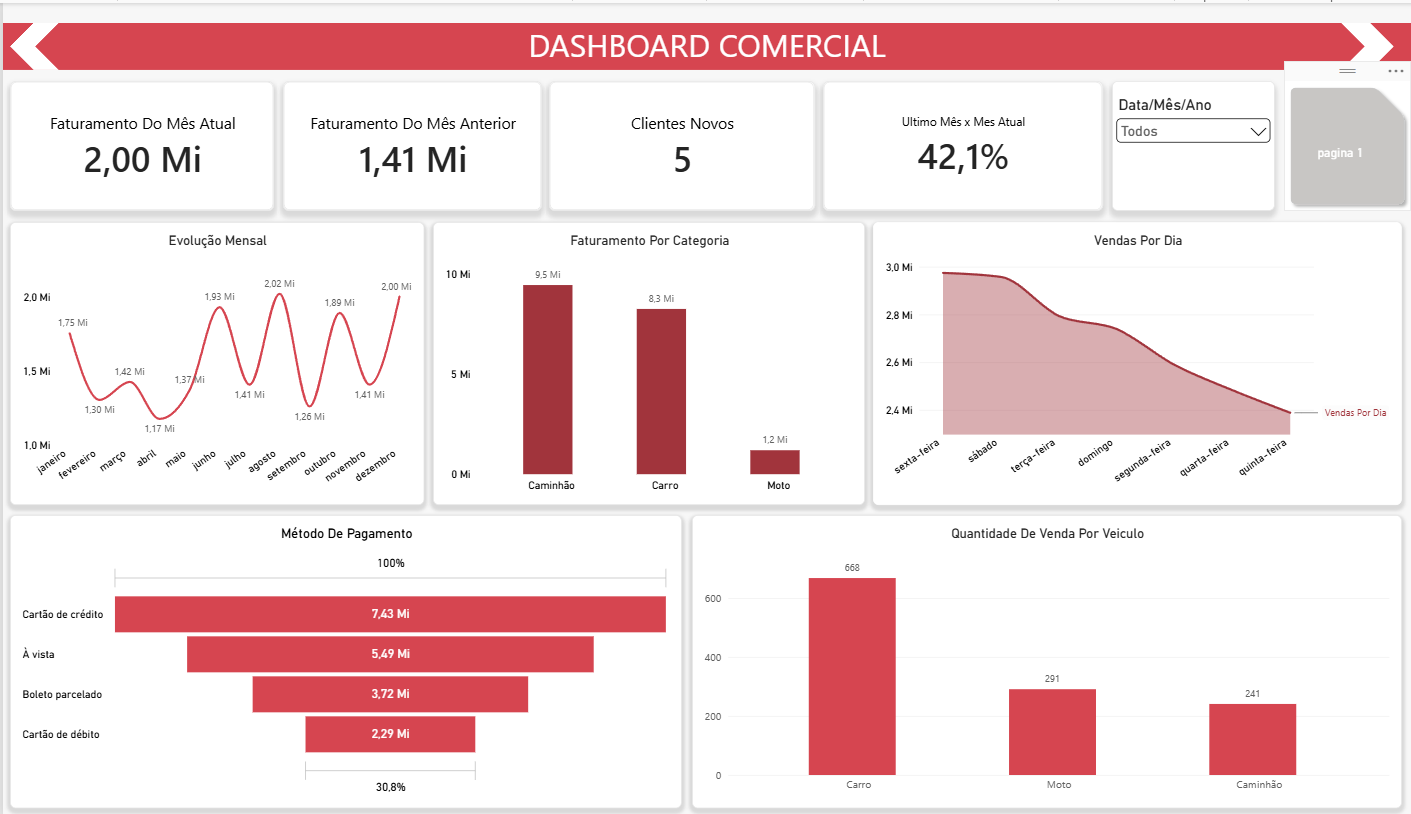

What the dashboard file says about the page in this screenshot:
{"tool":"powerbi","page":{"name":"Página 2","canvas":[1920,1080],"ordinal":1},"visuals":[{"type":"textbox","box":[0,0,1920,64.1],"z":3000},{"type":"shape","box":[1824.5,0,72.3,64.1],"z":4000},{"type":"shape","box":[9.5,0,66.8,64.1],"z":5000},{"type":"cardVisual","fields":{"Data":["pagina 2.Fat Mes Atual"]},"box":[9.5,79.1,360,177.3],"z":6000},{"type":"cardVisual","fields":{"Data":["pagina 2.Fat Mes Anterior"]},"box":[381.8,79.1,353.2,177.3],"z":7000},{"type":"cardVisual","fields":{"Data":["pagina 2.Clientes Novos"]},"box":[744.5,79.1,362.7,177.3],"z":8000},{"type":"cardVisual","fields":{"Data":["pagina 2.Variacao %"]},"box":[1118.2,79.1,381.8,177.3],"z":9000},{"type":"pageNavigator","box":[1746.8,79.1,173.2,177.3],"z":10000},{"type":"lineChart","title":"Evolução Mensal ","fields":{"Category":["pagina 2.data.Variation.Hierarquia de datas.Mês"],"Y":["Sum(pagina 2.valor_total)"]},"box":[9.5,271.4,564.5,385.9],"z":11000},{"type":"columnChart","title":"Faturamento Por Categoria","fields":{"Category":["pagina 2.categoria_veiculo"],"Y":["Sum(pagina 2.valor_total)"]},"box":[586.4,271.4,589.1,385.9],"z":12000},{"type":"stackedAreaChart","title":"Vendas Por Dia","fields":{"Category":["pagina 2.Dia Semana"],"Y":["Sum(pagina 2.valor_total)"]},"box":[1186.4,271.4,721.4,385.9],"z":13000},{"type":"funnel","title":"Método De Pagamento","fields":{"Category":["pagina 2.forma_pagamento"],"Y":["Sum(pagina 2.valor_total)"]},"box":[9.5,670.9,916.4,399.5],"z":14000},{"type":"clusteredColumnChart","title":"Quantidade De Venda Por Veiculo","fields":{"Category":["pagina 2.categoria_veiculo"],"Y":["CountNonNull(pagina 2.vendedor)"]},"box":[939.5,670.9,968.2,399.5],"z":15000},{"type":"slicer","fields":{"Values":["pagina 2.data"]},"box":[1512.3,79.1,222.3,177.3],"z":16000}]}

Visuals, with their boxes in screenshot pixels (x1, y1, x2, y2), scaled from the page's 1920x1080 canvas onto the 1411x814 screenshot:
textbox: left=0, top=0, right=1410, bottom=48
shape: left=1341, top=0, right=1394, bottom=48
shape: left=7, top=0, right=56, bottom=48
cardVisual - pagina 2.Fat Mes Atual: left=7, top=60, right=272, bottom=193
cardVisual - pagina 2.Fat Mes Anterior: left=281, top=60, right=540, bottom=193
cardVisual - pagina 2.Clientes Novos: left=547, top=60, right=814, bottom=193
cardVisual - pagina 2.Variacao %: left=822, top=60, right=1102, bottom=193
pageNavigator: left=1284, top=60, right=1410, bottom=193
"Evolução Mensal " lineChart: left=7, top=205, right=422, bottom=495
"Faturamento Por Categoria" columnChart: left=431, top=205, right=864, bottom=495
"Vendas Por Dia" stackedAreaChart: left=872, top=205, right=1402, bottom=495
"Método De Pagamento" funnel: left=7, top=506, right=680, bottom=807
"Quantidade De Venda Por Veiculo" clusteredColumnChart: left=690, top=506, right=1402, bottom=807
slicer - pagina 2.data: left=1111, top=60, right=1275, bottom=193
